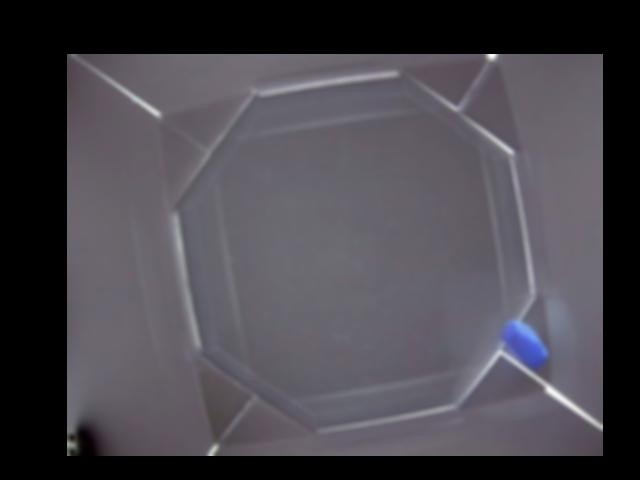Potato: (499, 319, 551, 368)
